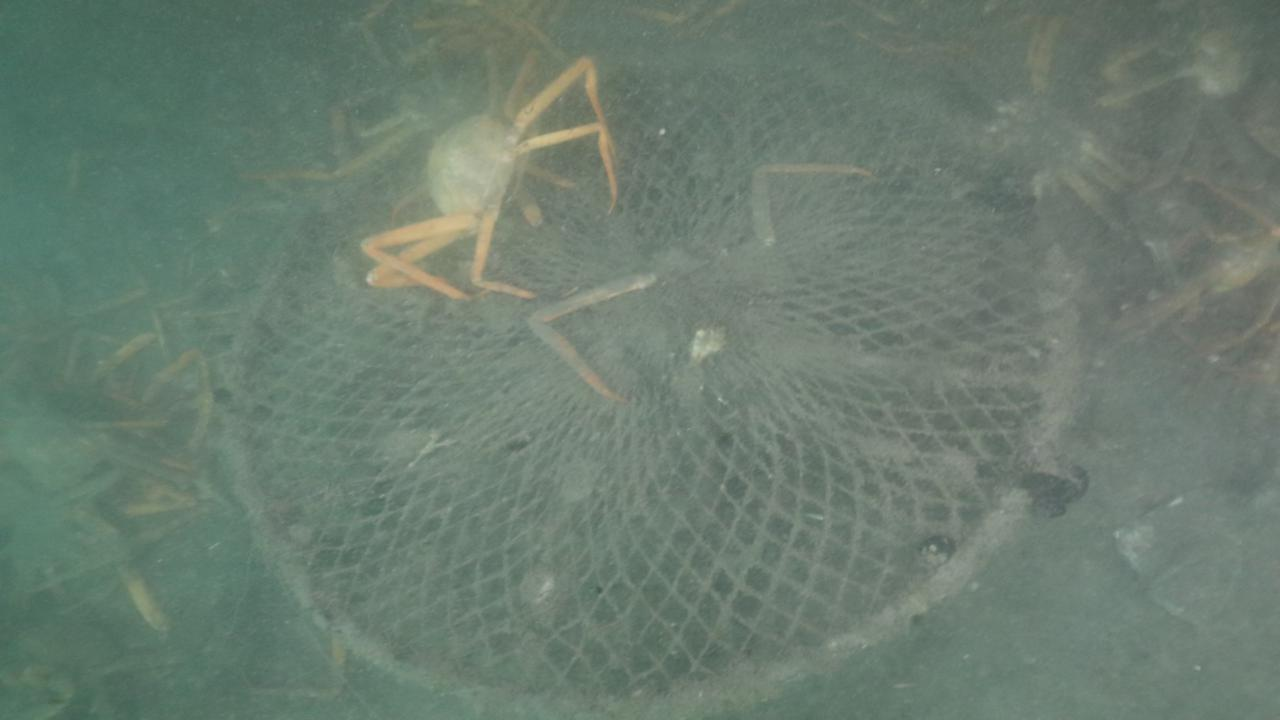circular fish trap: (211, 33, 1087, 720)
